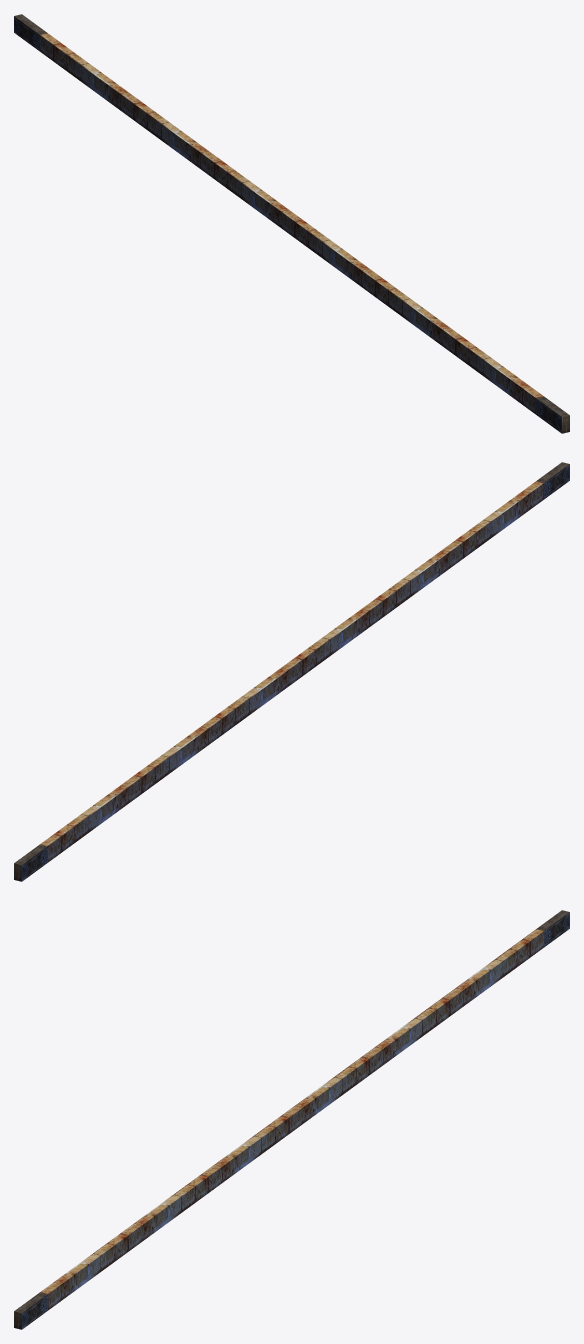
Rendered from Grindrail01.gltf.
3 views of the same model, one above another, from view 1: azimuth 30°, elevation 25°; view 2: azimuth 150°, elevation 25°; view 3: azimuth 330°, elevation 25° (orthographic).
Parts seen in each view (by area): view 1: Grindrail01Mesh; view 2: Grindrail01Mesh; view 3: Grindrail01Mesh.
Part boxes in pixels (box(x1,y1,x2,y2)): Grindrail01Mesh: box(14, 14, 569, 433); Grindrail01Mesh: box(14, 462, 569, 881); Grindrail01Mesh: box(14, 910, 569, 1329).
Size of the model in its own units: 0.15 by 0.3 by 18.
2 materials, 2 textured.
